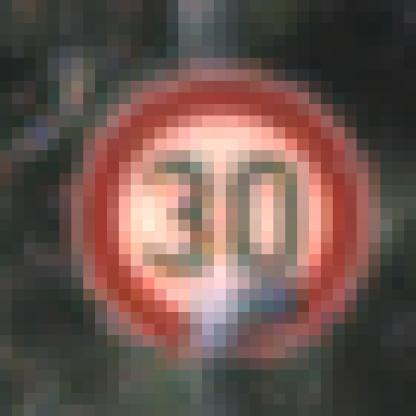Speed Limit 30: (94, 77, 358, 356)
